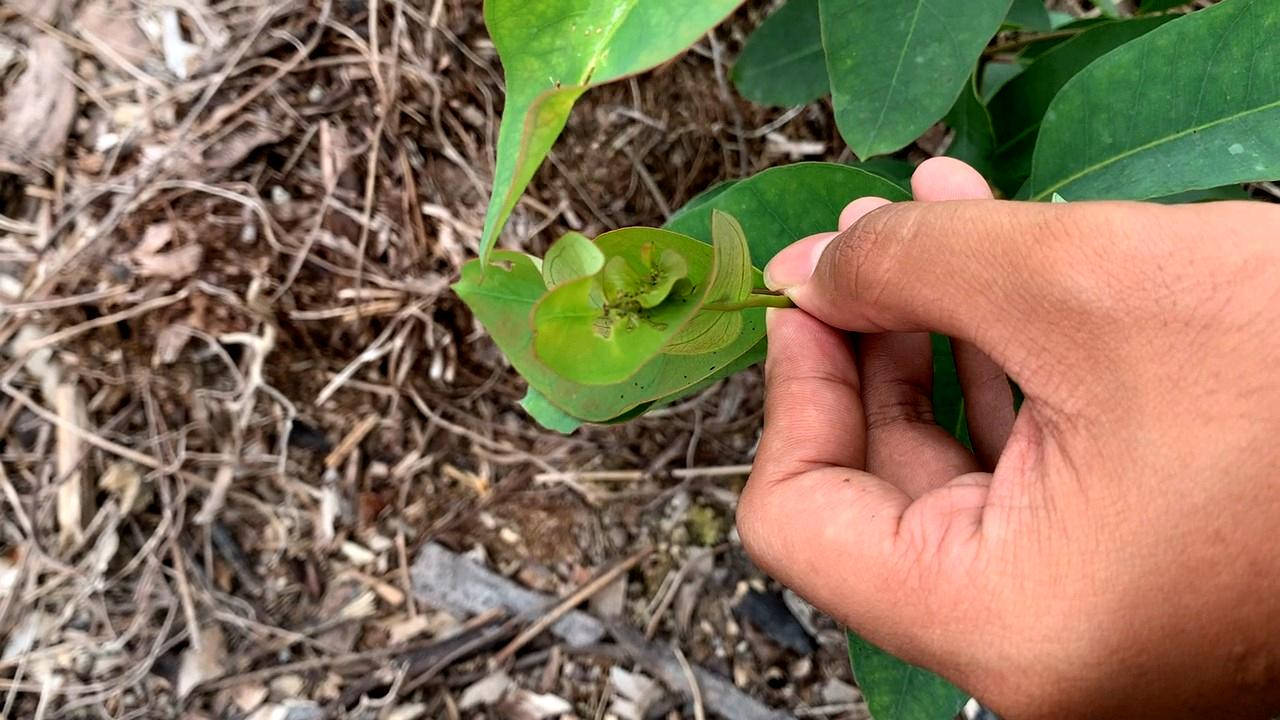Leaf Roller - Leaf: (500, 200, 763, 425)
